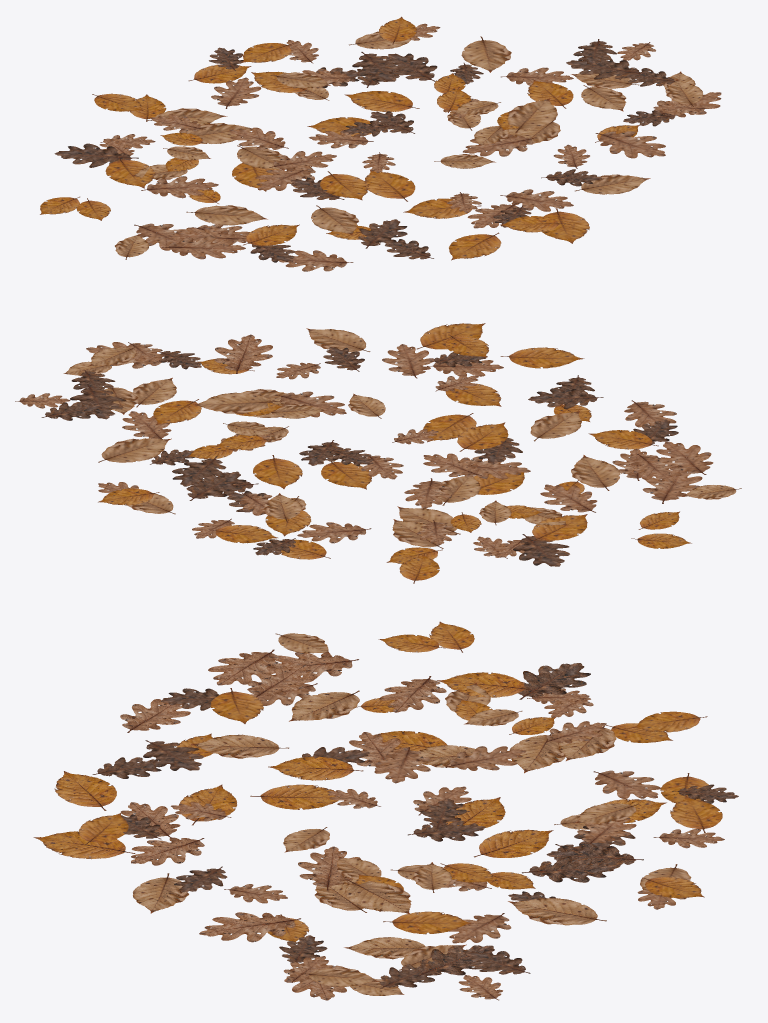
Rendered from Mixed_LeafLitter_Patch_01_LOD2.fbx.
3 renders of one model, top to bottom at view 1: azimuth 30°, elevation 25°; view 2: azimuth 150°, elevation 25°; view 3: azimuth 270°, elevation 25°, orthographic. The views are drawn at different scales.
Parts seen in each view (by area): view 1: Mixed_LeafLitter_Patch_01_LOD2_Mesh; view 2: Mixed_LeafLitter_Patch_01_LOD2_Mesh; view 3: Mixed_LeafLitter_Patch_01_LOD2_Mesh.
Boxes of the visible parts, box(x1,y1,x2,y2) form: Mixed_LeafLitter_Patch_01_LOD2_Mesh: box(40, 16, 721, 271); Mixed_LeafLitter_Patch_01_LOD2_Mesh: box(15, 323, 741, 583); Mixed_LeafLitter_Patch_01_LOD2_Mesh: box(33, 621, 738, 1000).
Bounding box in the file's own units: 144 × 1.48 × 114.
1 material, 1 textured.
